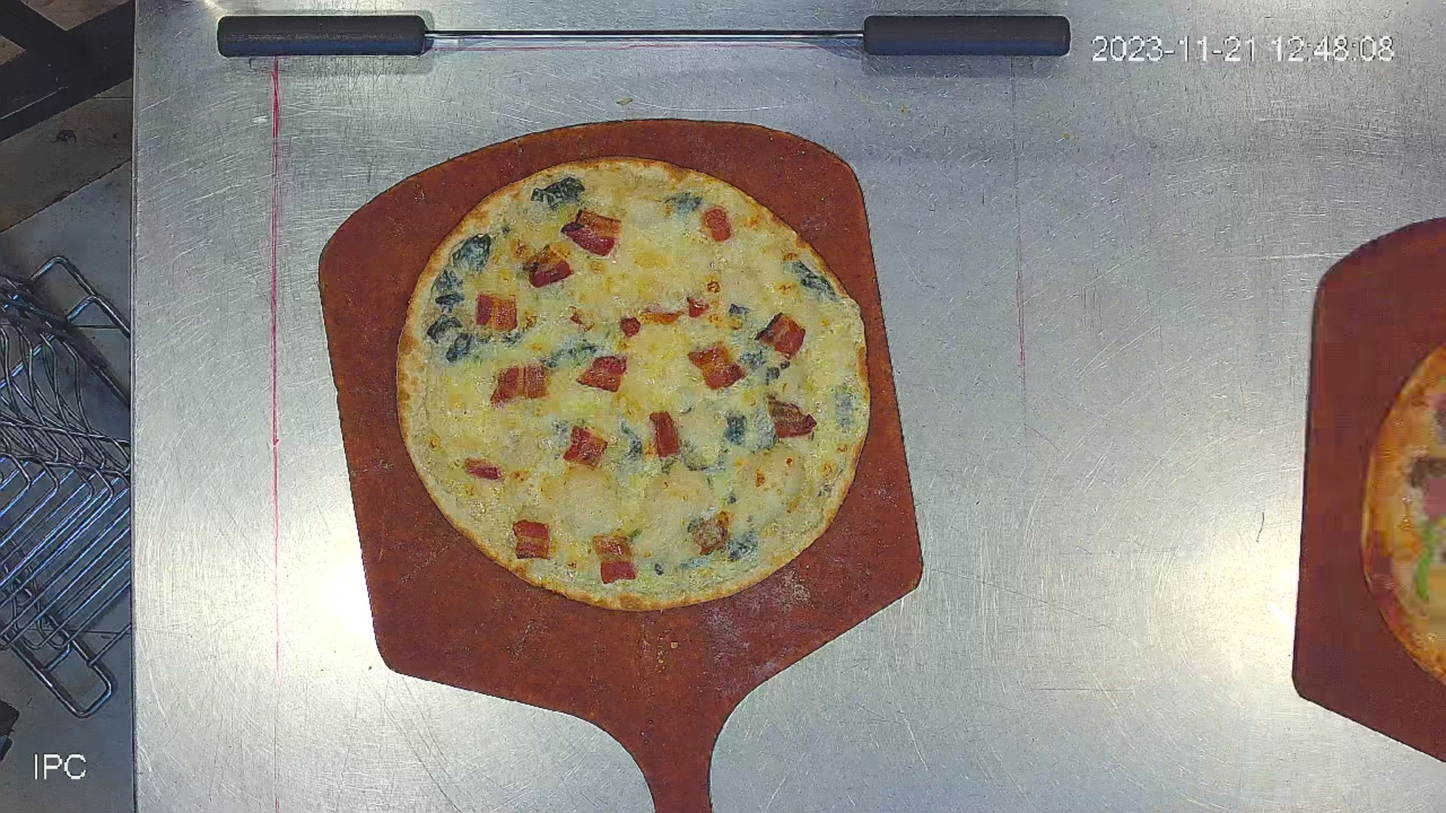pepporoni: (389, 158, 868, 612), (1360, 337, 1445, 705)
